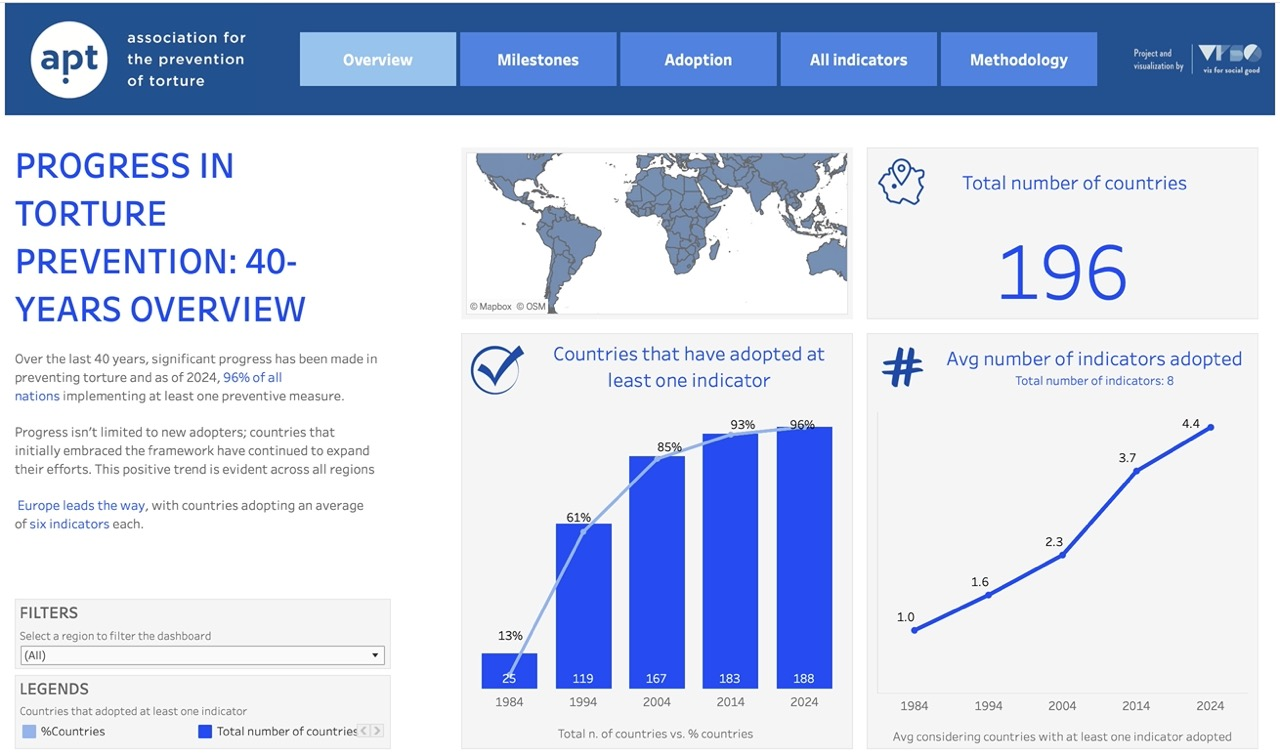

The dashboard page shown, as its layout file describes it:
{"tool":"tableau","page":{"name":"Overview","canvas":[1300,800],"ordinal":4},"visuals":[{"type":"image","param":"/Users/gabrielamourao/Documents/6-Projects/16_VizForGood/APT/Assets/Screenshot 2","box":[0,0,275,115]},{"type":"blank","box":[275,0,61,115]},{"type":"dashboard-object","box":[336,0,164,115]},{"type":"dashboard-object","box":[500,0,164,115]},{"type":"dashboard-object","box":[664,0,164,115]},{"type":"dashboard-object","box":[828,0,164,115]},{"type":"dashboard-object","box":[992,0,164,115]},{"type":"text","box":[50,151,421,401]},{"type":"worksheet","title":"Select region","mark":"Multipolygon","box":[509,159,354,164]},{"type":"image","param":"/Users/gabrielamourao/Documents/6-Projects/16_VizForGood/APT/Assets/pin map3.png","box":[879,159,72,72]},{"type":"text","box":[951,159,282,72]},{"type":"worksheet","title":"#Countries","mark":"Automatic","box":[879,231,354,92]},{"type":"image","param":"/Users/gabrielamourao/Documents/6-Projects/16_VizForGood/APT/Assets/check.png","box":[509,339,72,70]},{"type":"text","box":[581,339,282,70]},{"type":"image","param":"/Users/gabrielamourao/Documents/6-Projects/16_VizForGood/APT/Assets/hashtag.png","box":[879,339,72,70]},{"type":"text","box":[951,339,282,70]},{"type":"text","box":[509,409,354,38]},{"type":"text","box":[879,409,354,38]},{"type":"worksheet","title":"Number of countries with at least one indicator (2)","mark":"Bar","rows":["Calculation_49680351111028739","Calculation_49680351109632002"],"cols":["Year"],"box":[509,447,354,306]},{"type":"worksheet","title":"Avg n. of indicators","mark":"Line","rows":["Total optin countries (copy)_237142684745506816"],"cols":["Year"],"box":[879,447,354,306]},{"type":"text","box":[51,553,101,47]},{"type":"blank","box":[152,553,318,47]},{"type":"filter","title":"Number of countries with at least one indicator (2)","param":"[federated.0iol95302cvixh10u81be0xo8cs6].[none:Region:nk]","box":[51,600,419,49]},{"type":"text","box":[51,657,105,48]},{"type":"blank","box":[156,657,314,48]},{"type":"legend","title":"Number of countries with at least one indicator (2)","param":"[federated.0iol95302cvixh10u81be0xo8cs6].[:Measure Names]","box":[51,705,419,48]}]}

Visuals, with their boxes on the page's 1300x800 design canvas (x1, y1, x2, y2). These are canvas units, not pixel positions in the 1280x756 screenshot, which may show the page scaled, cropped or inside an application window:
image: pyautogui.locateOnScreen(0, 0, 275, 115)
blank: pyautogui.locateOnScreen(275, 0, 336, 115)
dashboard-object: pyautogui.locateOnScreen(336, 0, 500, 115)
dashboard-object: pyautogui.locateOnScreen(500, 0, 664, 115)
dashboard-object: pyautogui.locateOnScreen(664, 0, 828, 115)
dashboard-object: pyautogui.locateOnScreen(828, 0, 992, 115)
dashboard-object: pyautogui.locateOnScreen(992, 0, 1156, 115)
text: pyautogui.locateOnScreen(50, 151, 471, 552)
"Select region" worksheet (Multipolygon marks): pyautogui.locateOnScreen(509, 159, 863, 323)
image: pyautogui.locateOnScreen(879, 159, 951, 231)
text: pyautogui.locateOnScreen(951, 159, 1233, 231)
"#Countries" worksheet: pyautogui.locateOnScreen(879, 231, 1233, 323)
image: pyautogui.locateOnScreen(509, 339, 581, 409)
text: pyautogui.locateOnScreen(581, 339, 863, 409)
image: pyautogui.locateOnScreen(879, 339, 951, 409)
text: pyautogui.locateOnScreen(951, 339, 1233, 409)
text: pyautogui.locateOnScreen(509, 409, 863, 447)
text: pyautogui.locateOnScreen(879, 409, 1233, 447)
"Number of countries with at least one indicator (2)" worksheet (Bar marks): pyautogui.locateOnScreen(509, 447, 863, 753)
"Avg n. of indicators" worksheet (Line marks): pyautogui.locateOnScreen(879, 447, 1233, 753)
text: pyautogui.locateOnScreen(51, 553, 152, 600)
blank: pyautogui.locateOnScreen(152, 553, 470, 600)
"Number of countries with at least one indicator (2)" filter: pyautogui.locateOnScreen(51, 600, 470, 649)
text: pyautogui.locateOnScreen(51, 657, 156, 705)
blank: pyautogui.locateOnScreen(156, 657, 470, 705)
"Number of countries with at least one indicator (2)" legend: pyautogui.locateOnScreen(51, 705, 470, 753)
